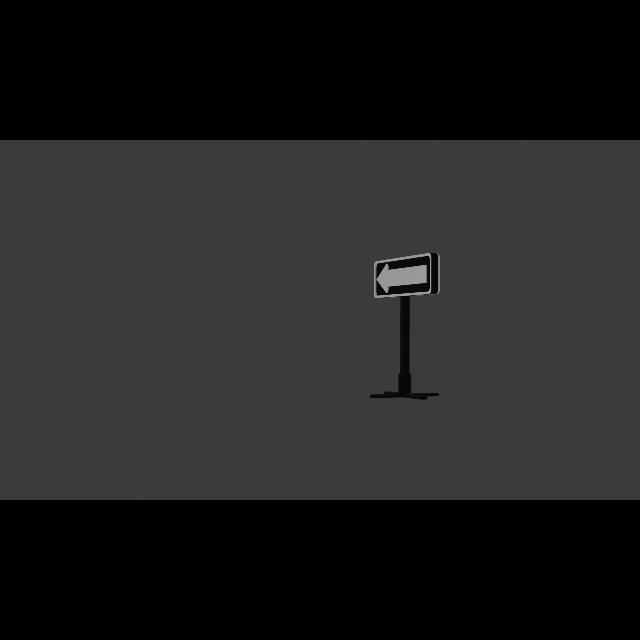sign_oneway_left: (374, 253, 441, 299)
